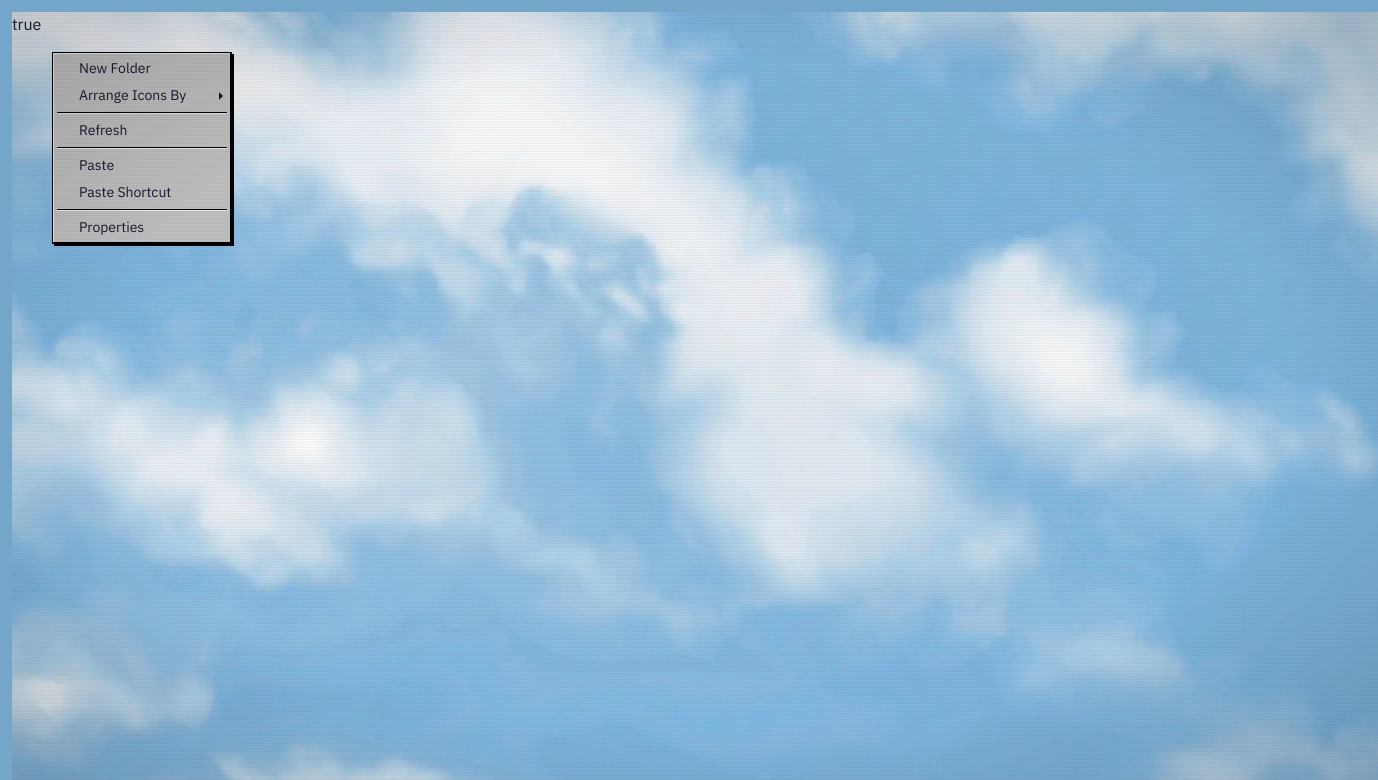
Test: Properties › opens the Display Properties window and dismisses the menu
Click the menu item "Properties".
click(142, 228)  # box x1=55 y1=214 x2=229 y2=241
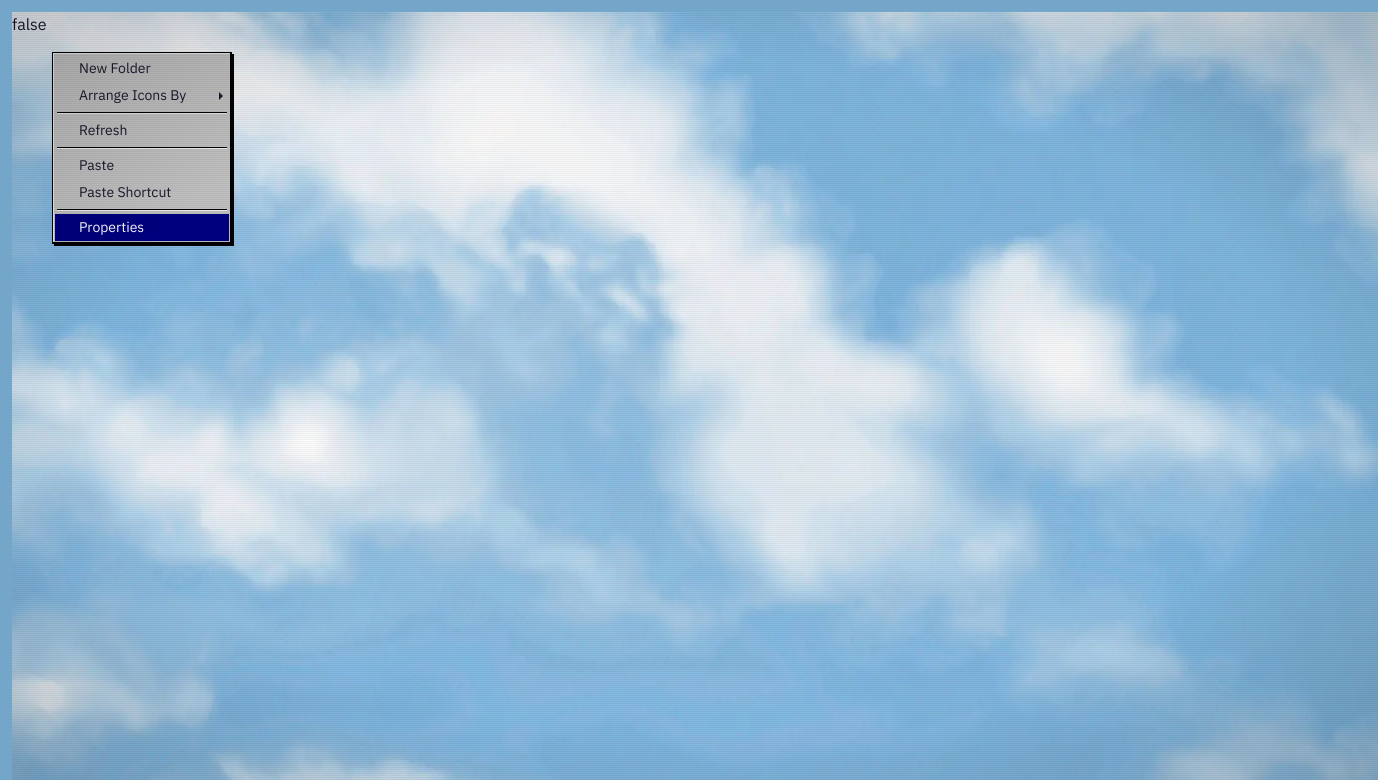
Now the text with test id "display-closed" reads "false", box x1=12 y1=14 x2=47 y2=34
